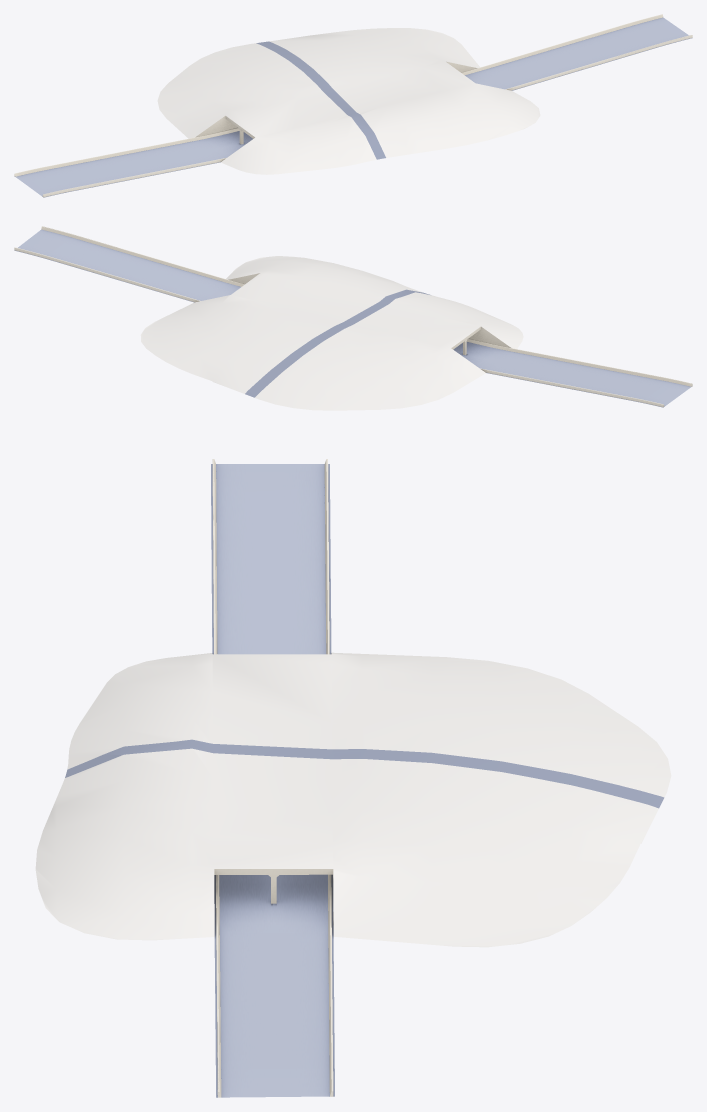
File: ToleBi-Baglanov.glb
The picture shows the model from 3 angles, top to bottom: view 1: azimuth 30°, elevation 25°; view 2: azimuth 150°, elevation 25°; view 3: azimuth 270°, elevation 25°; orthographic projection. The views are drawn at different scales.
Visible parts, largest first — view 1: group_0.001, group_0, SketchUp.003; view 2: group_0.001, group_0, SketchUp.003; view 3: group_0.001, group_0, SketchUp.003.
Part boxes in pixels (box(x1,y1,x2,y2)): group_0.001: box(157, 28, 540, 174); group_0: box(14, 17, 692, 197); SketchUp.003: box(14, 14, 692, 197); group_0.001: box(140, 256, 523, 410); group_0: box(14, 229, 691, 407); SketchUp.003: box(14, 226, 692, 407); group_0.001: box(35, 652, 671, 947); group_0: box(65, 464, 664, 1097); SketchUp.003: box(212, 459, 333, 1097).
Bounding box in the file's own units: 259 × 9.59 × 110.
4 materials, 2 textured.
